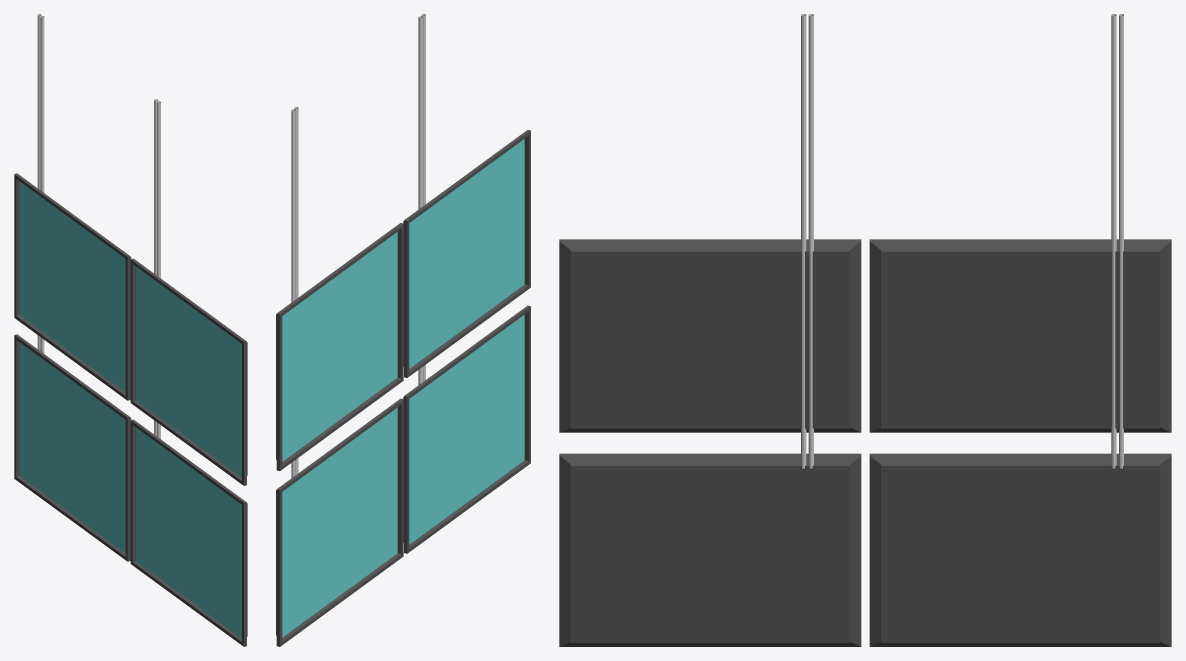
Rendered from SurveillanceScreens.fbx.
The picture shows the model from 3 angles, left to right: view 1: azimuth 30°, elevation 25°; view 2: azimuth 150°, elevation 25°; view 3: azimuth 270°, elevation 25°; orthographic projection. The views are drawn at different scales.
Parts seen in each view (by area): view 1: bot_left, bot_right, top_right, top_left; view 2: bot_left, bot_right, top_left, top_right; view 3: bot_right, bot_left, top_left, top_right.
Part boxes in pixels (left/top/right/bottom): bot_left: left=14, top=14, right=131, bottom=561; bot_right: left=130, top=99, right=247, bottom=646; top_right: left=130, top=258, right=247, bottom=485; top_left: left=14, top=173, right=131, bottom=400; bot_left: left=276, top=107, right=403, bottom=646; bot_right: left=403, top=14, right=530, bottom=553; top_left: left=276, top=223, right=403, bottom=470; top_right: left=403, top=130, right=530, bottom=377; bot_right: left=559, top=14, right=861, bottom=646; bot_left: left=869, top=14, right=1171, bottom=646; top_left: left=869, top=239, right=1171, bottom=432; top_right: left=559, top=239, right=861, bottom=432.
Size of the model in its own units: 0.4579 by 25.07 by 21.94.
